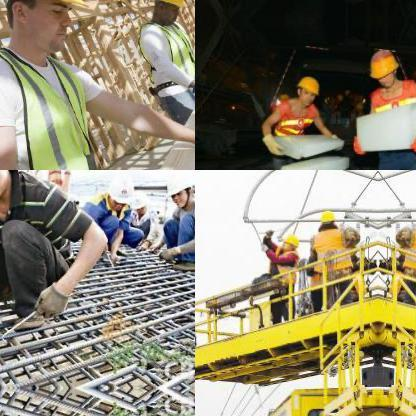Helmet: (0, 0, 90, 61), (366, 46, 402, 84), (163, 170, 194, 210), (107, 170, 134, 209), (146, 0, 187, 25), (294, 72, 320, 106), (129, 186, 151, 214), (314, 209, 338, 233), (278, 230, 296, 254)
